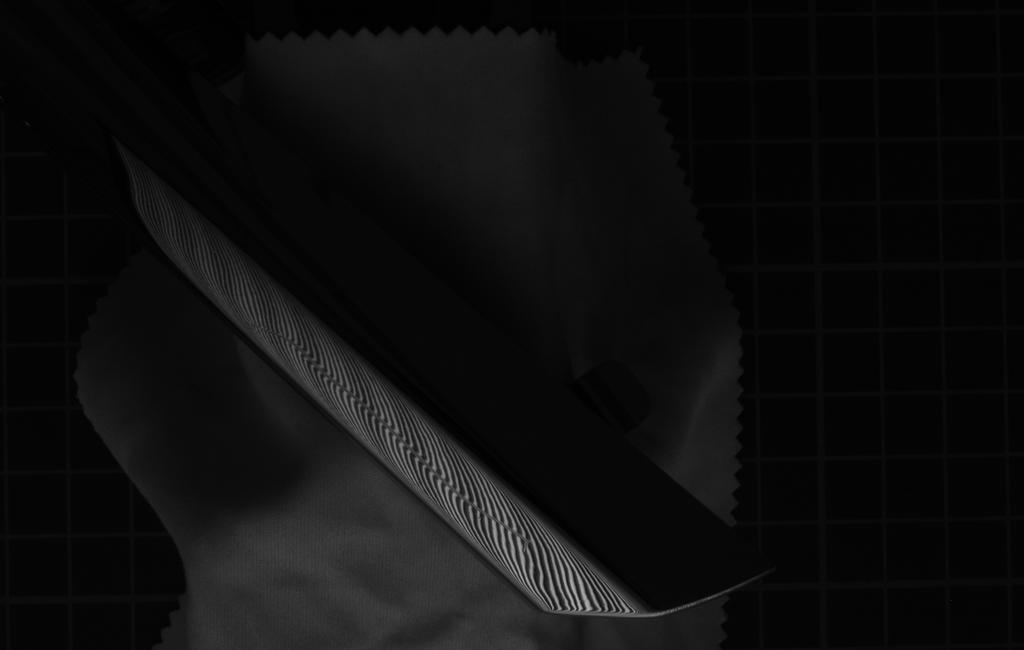Scratch: (245, 312, 558, 562)
